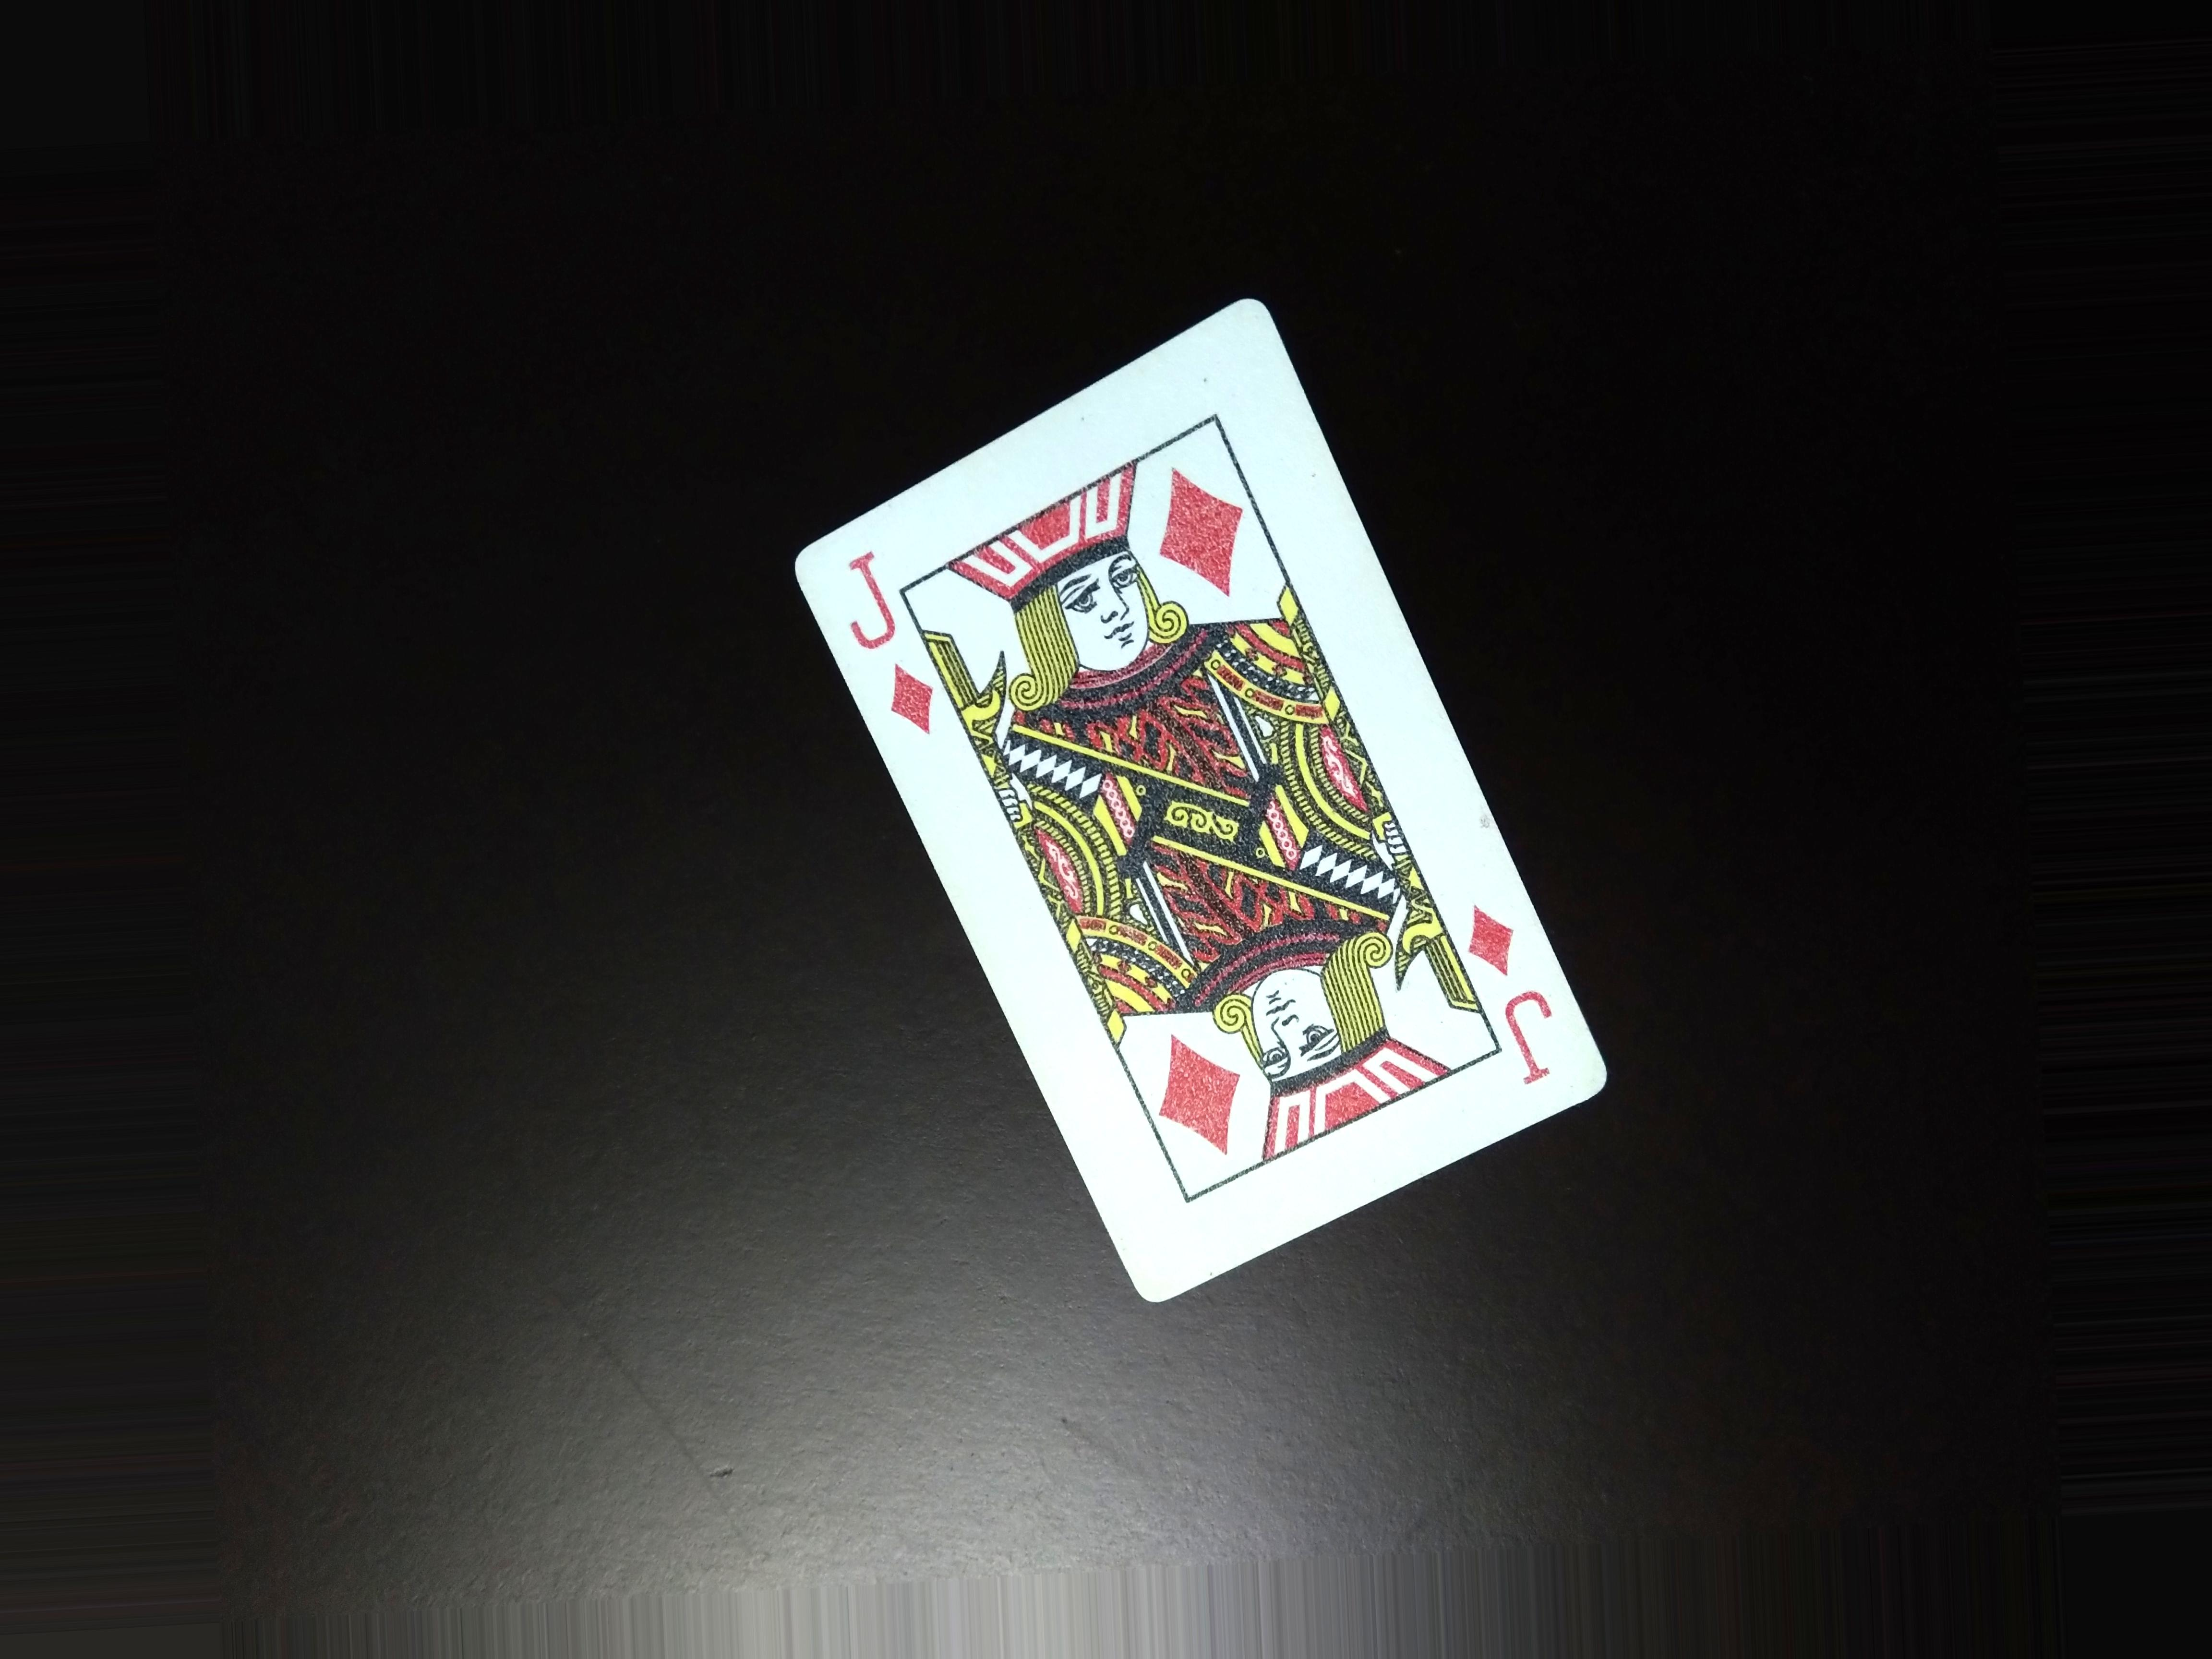JD: (841, 532, 939, 755)
